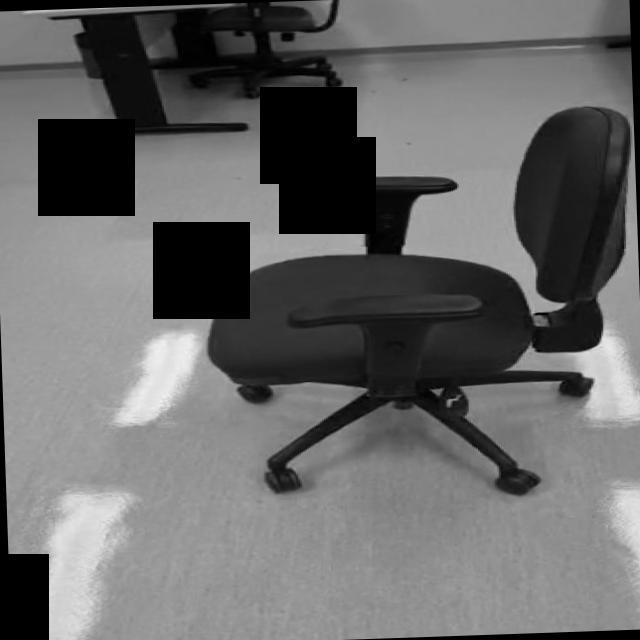chair: (196, 102, 640, 505)
